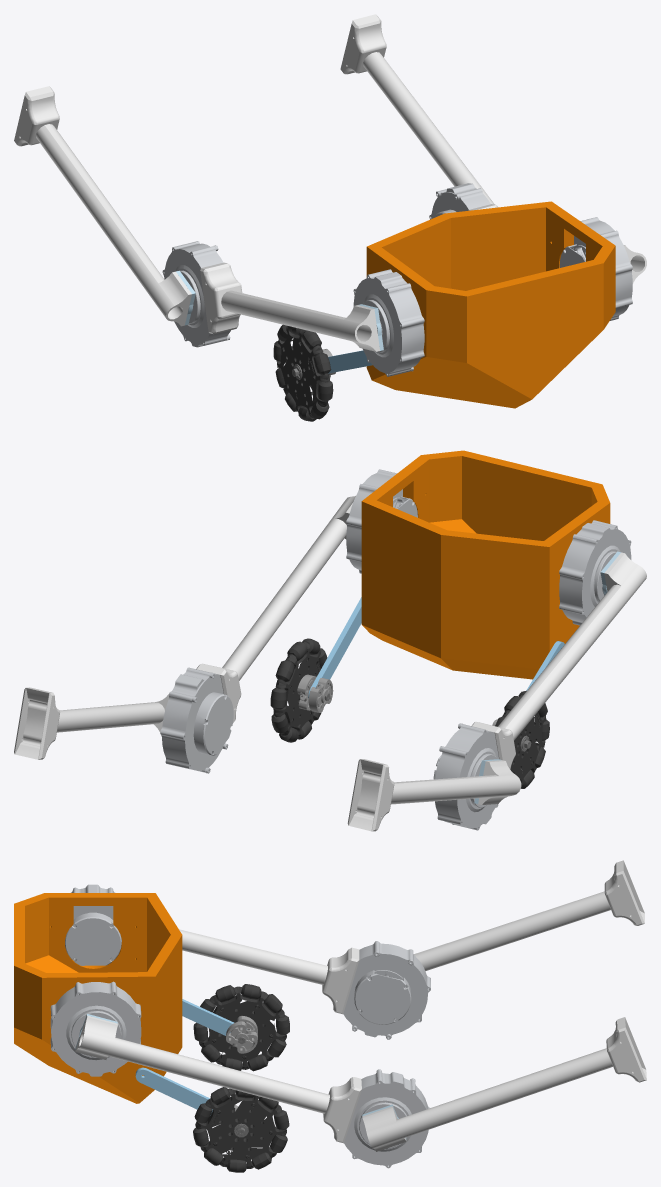
The model's file is roller-wheel.glb.
3 renders of one model, top to bottom at view 1: azimuth 30°, elevation 25°; view 2: azimuth 150°, elevation 25°; view 3: azimuth 270°, elevation 25°, orthographic. The views are drawn at different scales.
Visible parts, largest first — view 1: Part 3, Part 1 (×4), 8108-8__X2_7B805316_X0__1 (×4), Wheel Base; view 2: Part 3, Part 1 (×5), 8108-8__X2_7B805316_X0__1 (×4), Wheel Base (×2), V5_X2_9A7152A876D6_X0_, object 20; view 3: Part 1 (×6), Part 3, 8108-8__X2_7B805316_X0__1 (×4), Wheel Base (×2), V5_X2_9A7152A876D6_X0_ (×2), object 37.
Part boxes in pixels (x1=…): Part 3: x1=366, y1=201, x2=615, y2=408; Part 1 (×4): x1=14, y1=14, x2=494, y2=373; 8108-8__X2_7B805316_X0__1 (×4): x1=162, y1=183, x2=632, y2=376; Wheel Base: x1=276, y1=326, x2=329, y2=418; Part 3: x1=361, y1=450, x2=610, y2=679; Part 1 (×5): x1=14, y1=496, x2=646, y2=831; 8108-8__X2_7B805316_X0__1 (×4): x1=160, y1=469, x2=631, y2=830; Wheel Base (×2): x1=273, y1=642, x2=546, y2=787; V5_X2_9A7152A876D6_X0_: x1=193, y1=692, x2=233, y2=755; object 20: x1=308, y1=678, x2=333, y2=712; Part 1 (×6): x1=75, y1=860, x2=646, y2=1151; Part 3: x1=14, y1=893, x2=182, y2=1103; 8108-8__X2_7B805316_X0__1 (×4): x1=50, y1=884, x2=430, y2=1168; Wheel Base (×2): x1=195, y1=986, x2=286, y2=1168; V5_X2_9A7152A876D6_X0_ (×2): x1=65, y1=912, x2=411, y2=1024; object 37: x1=226, y1=1021, x2=257, y2=1053.
Bounding box in the file's own units: 0.381 × 0.2076 × 0.6309.
